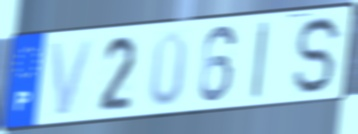0: (147, 30, 190, 109)
2: (98, 34, 139, 113)
6: (197, 23, 239, 106)
I: (249, 19, 271, 103)
S: (291, 14, 346, 98)
V: (48, 37, 97, 119)
